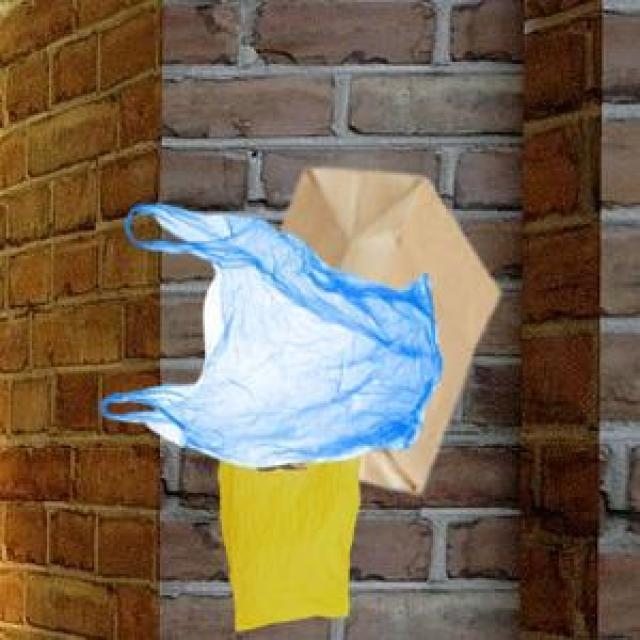paper: (276, 164, 495, 489)
